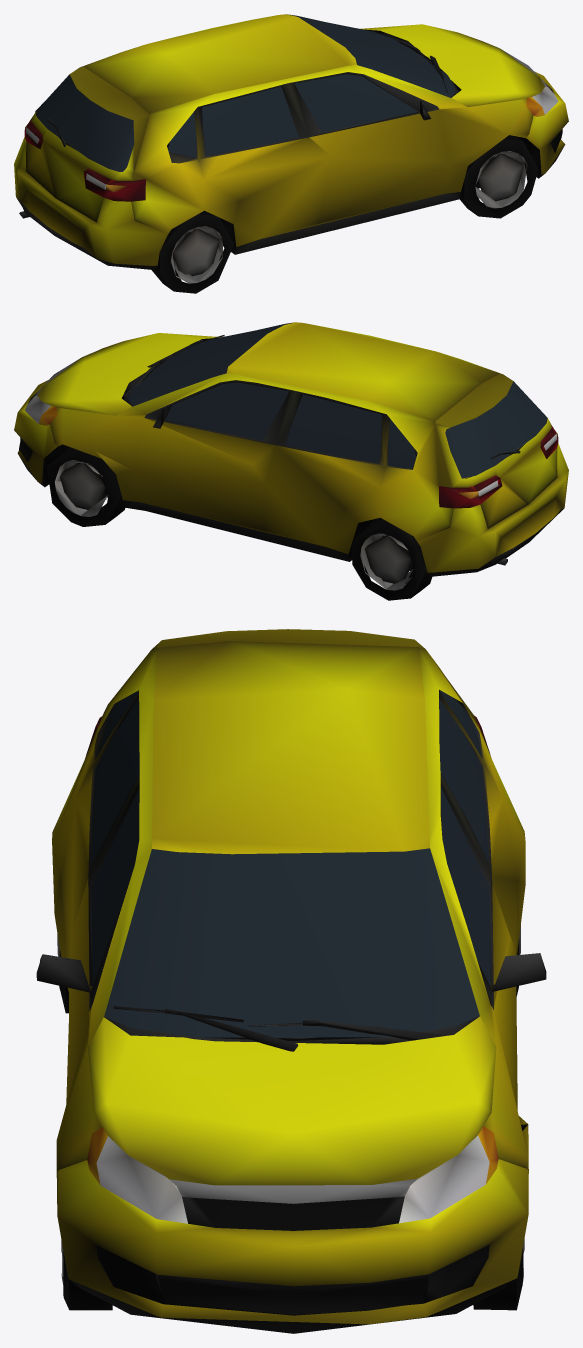
File: hatchback.glb
3 views of the same model, one above another, from view 1: azimuth 30°, elevation 25°; view 2: azimuth 150°, elevation 25°; view 3: azimuth 270°, elevation 25° (orthographic). The views are drawn at different scales.
Visible parts, largest first — view 1: hatchback; view 2: hatchback; view 3: hatchback.
Part boxes in pixels (bbox=[...]): hatchback: bbox=[14, 14, 568, 293]; hatchback: bbox=[14, 322, 568, 600]; hatchback: bbox=[36, 629, 546, 1333].
Bounding box in the file's own units: 4.6 × 1.56 × 2.03.
